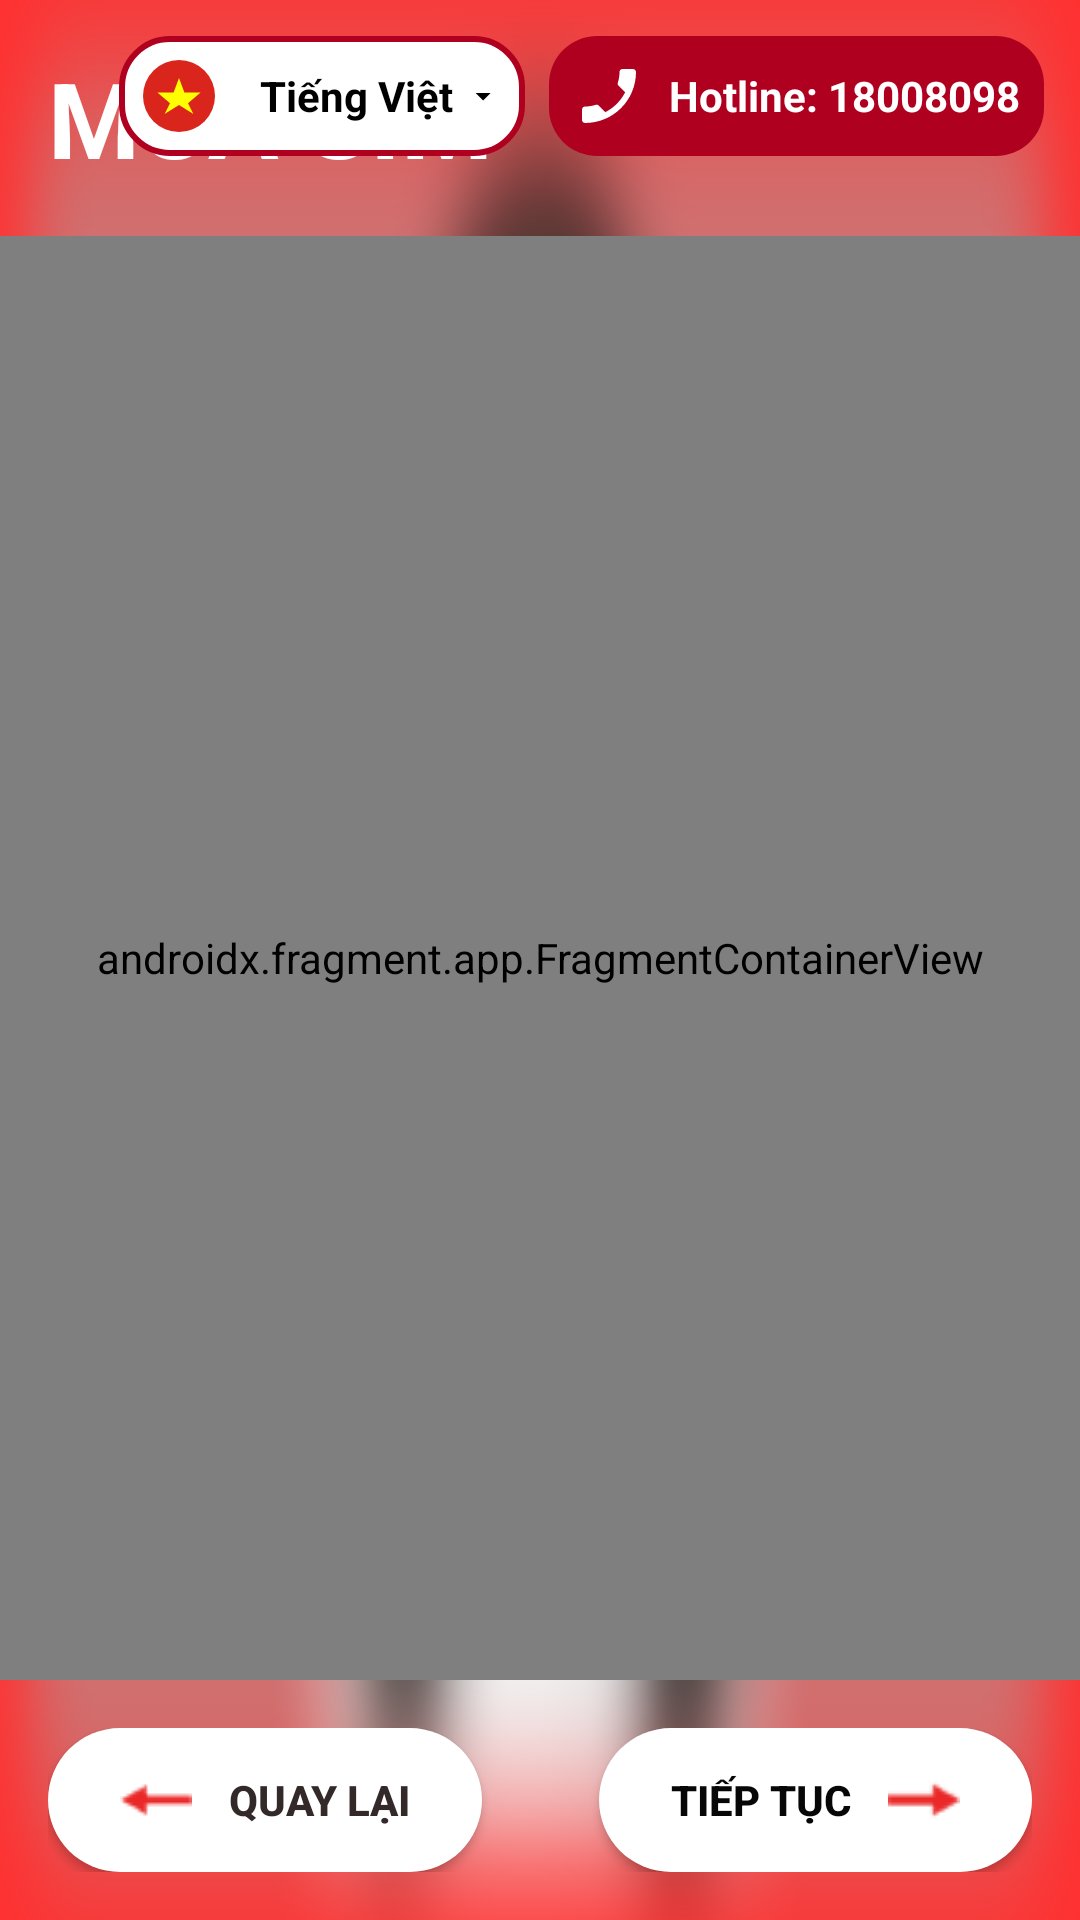

Icon click points for this 1080px x 1920px phone screenshot, format point (x, y):
phone: point (609, 96)
vietnam flag: point (179, 96)
